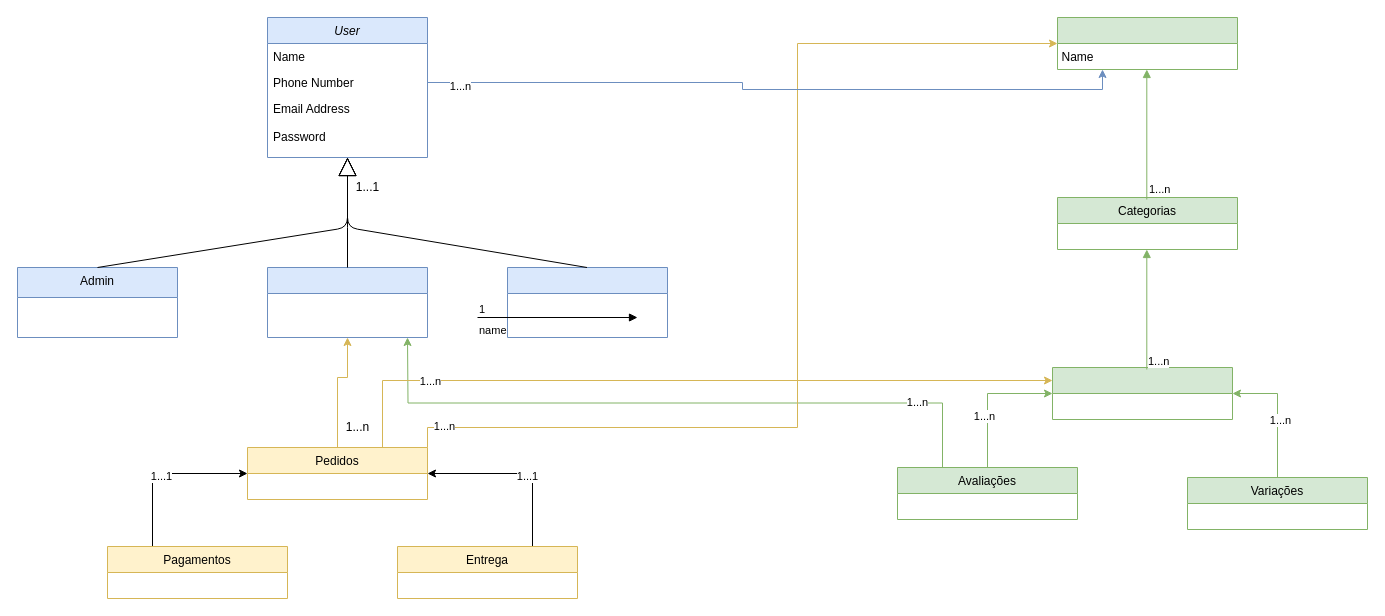
Some shapes in this 1385 by 616 pixel diagram are drawn without their labels. Each missing label, with the box of its shape:
Client: (266, 266, 428, 338)
Loja: (1056, 16, 1238, 70)
Produtos: (1052, 366, 1232, 420)
Visitor: (506, 266, 668, 338)
